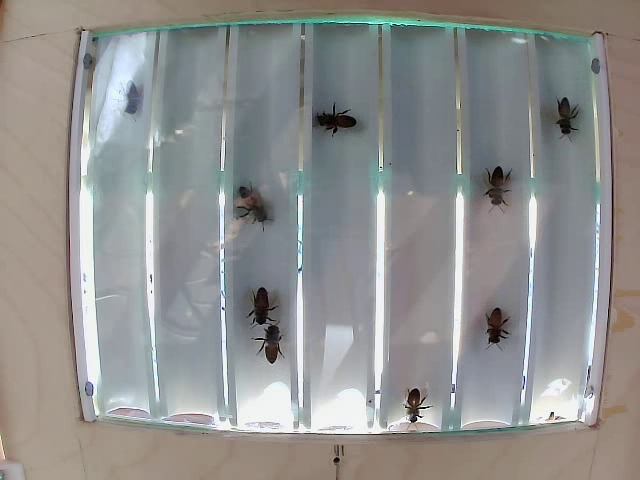bee: (477, 301, 517, 355), (226, 176, 268, 220), (305, 103, 358, 136), (478, 164, 512, 209), (245, 286, 276, 334), (256, 320, 288, 366), (549, 93, 575, 148), (391, 382, 426, 416)
